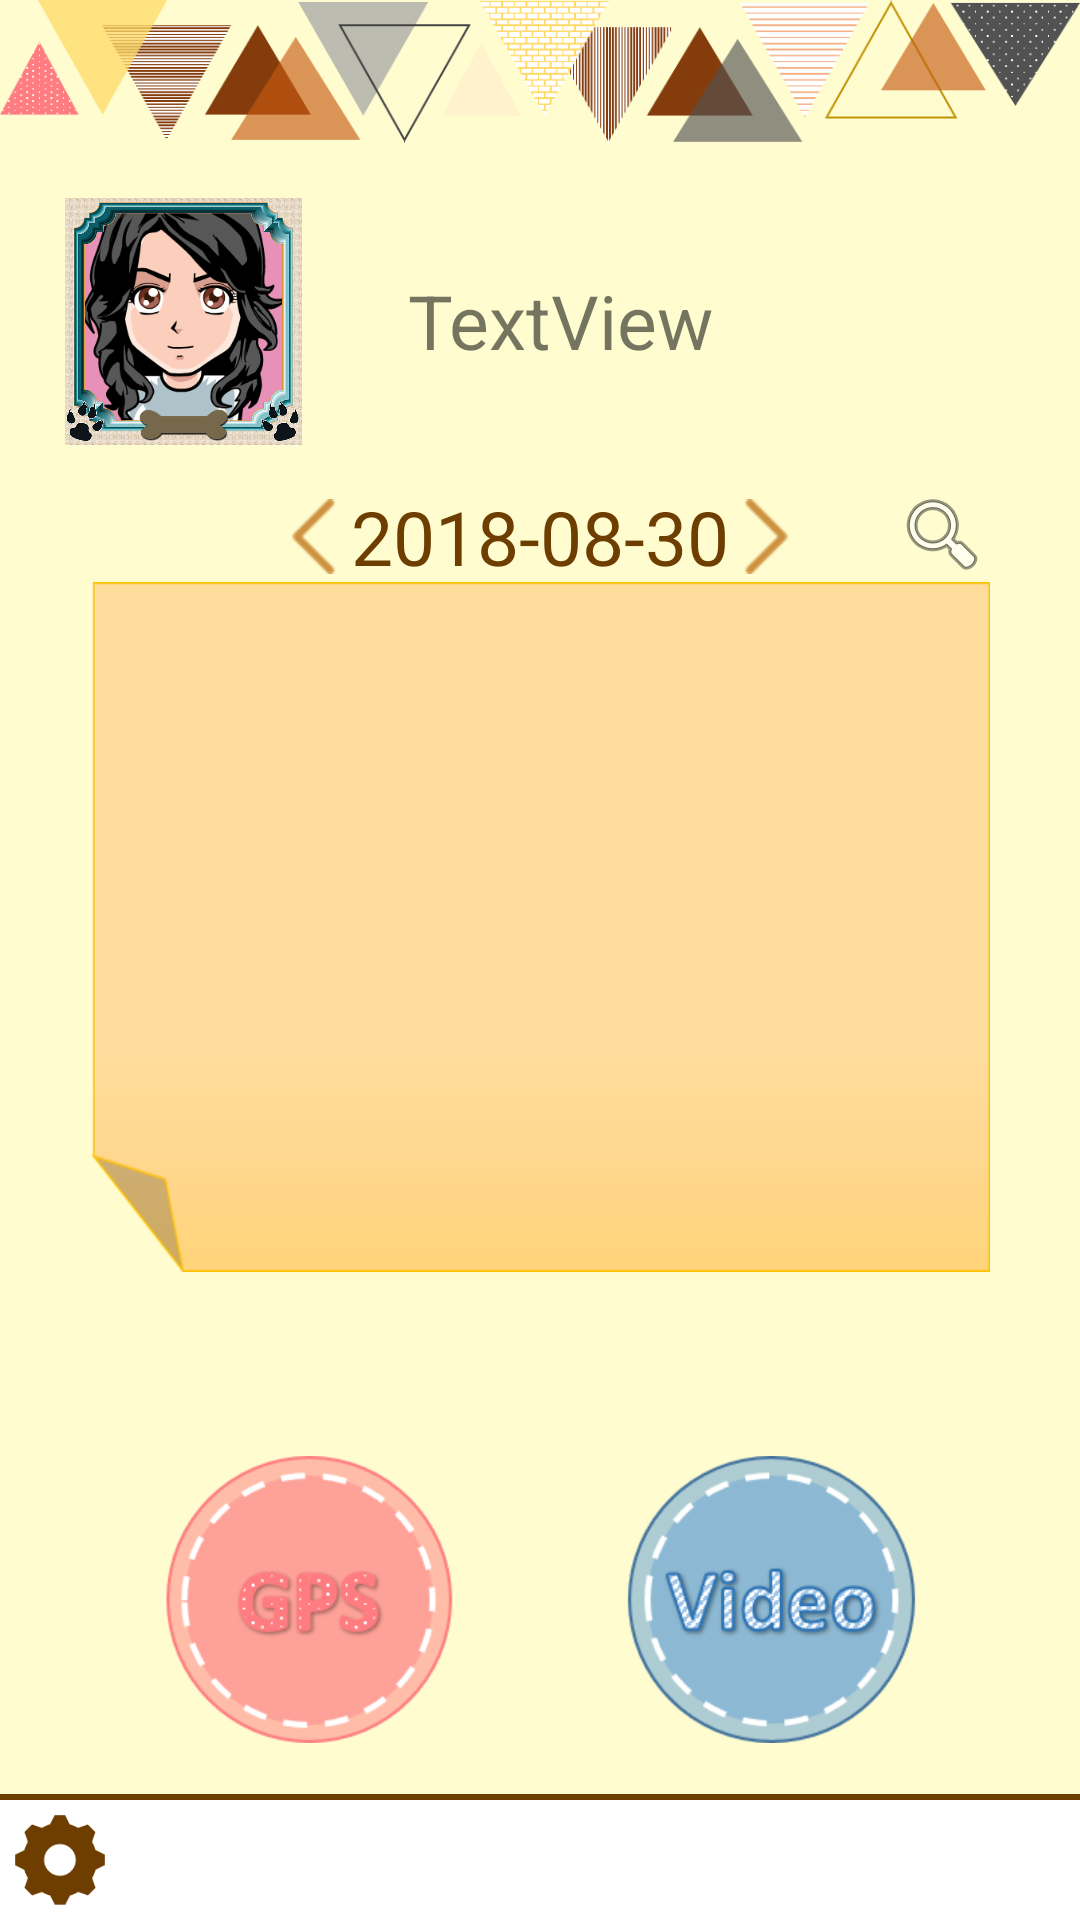

Icons on this 1080px x 1920px Android screen, each with the point to tap as point (x, y):
head portrait: point (183, 318)
search: point (942, 534)
setting: point (60, 1860)
